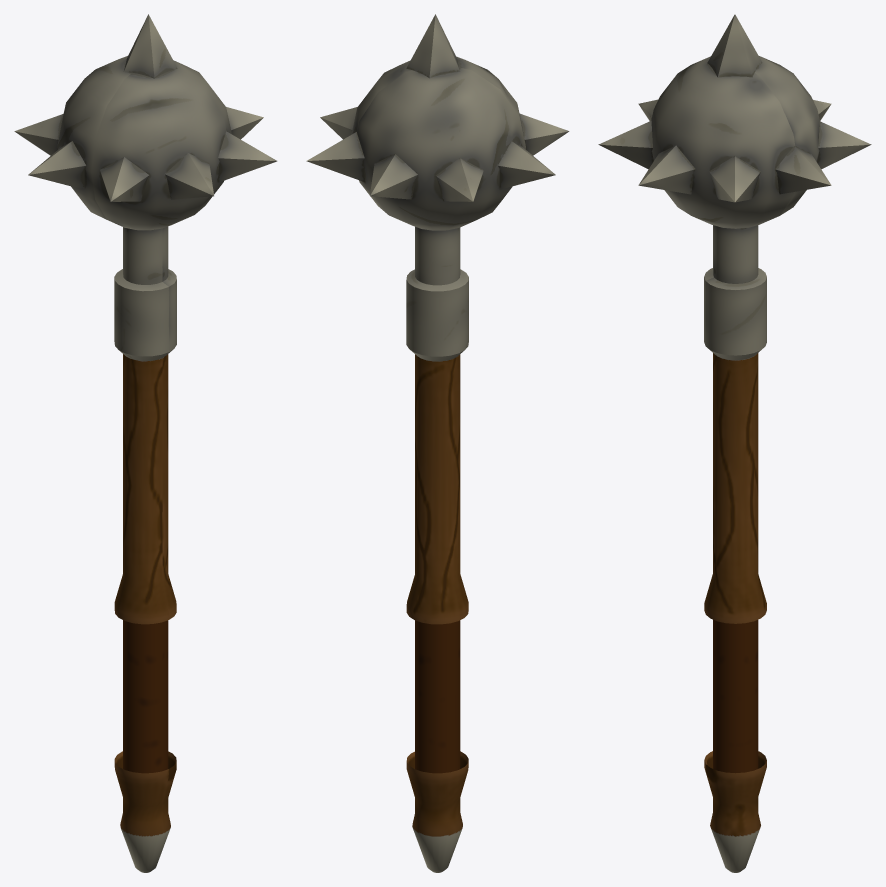
The model's file is Mace.fbx.
The picture shows the model from 3 angles, left to right: view 1: azimuth 30°, elevation 25°; view 2: azimuth 150°, elevation 25°; view 3: azimuth 270°, elevation 25°; orthographic projection.
Parts seen in each view (by area): view 1: BallWeapon; view 2: BallWeapon; view 3: BallWeapon.
Part boxes in pixels (x1,y1,x2,y2): BallWeapon: [14, 14, 277, 872]; BallWeapon: [306, 14, 569, 872]; BallWeapon: [598, 14, 871, 872].
Bounding box in the file's own units: 35.33 × 35.33 × 122.
